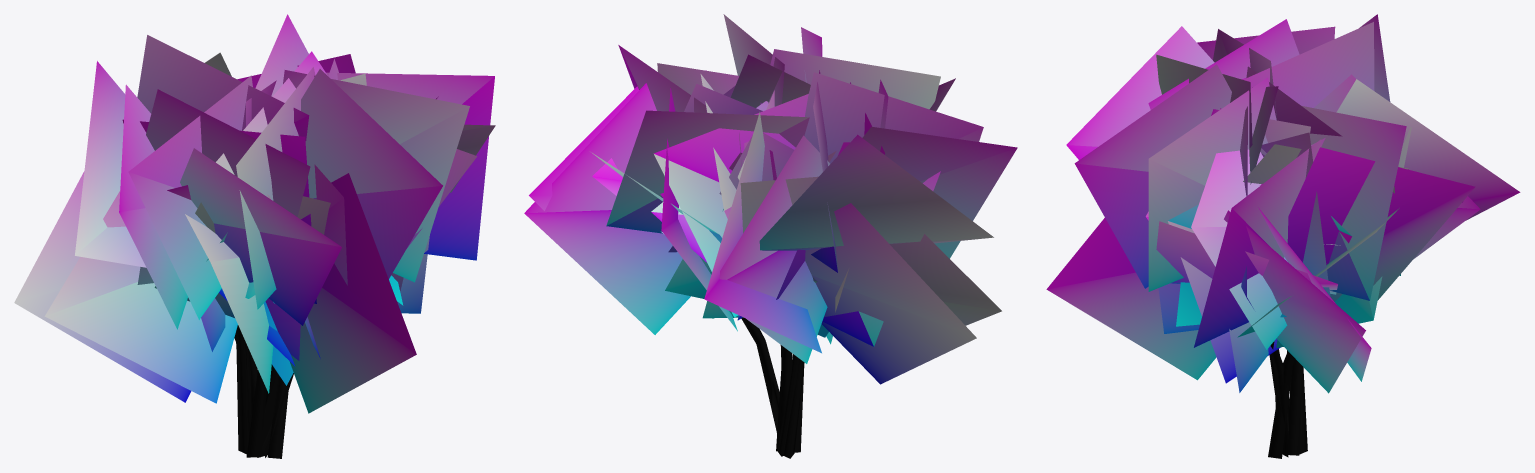
File: lilac_01_a.dae
The picture shows the model from 3 angles, left to right: view 1: azimuth 30°, elevation 25°; view 2: azimuth 150°, elevation 25°; view 3: azimuth 270°, elevation 25°; orthographic projection. The views are drawn at different scales.
Parts seen in each view (by area): view 1: lilac128; view 2: lilac128; view 3: lilac128.
Part boxes in pixels (x1,y1,x2,y2): lilac128: (14, 14, 495, 458); lilac128: (524, 14, 1017, 458); lilac128: (1046, 14, 1520, 458).
Size of what is drawn, in the model's own units: 5.41 by 4.99 by 4.66.
